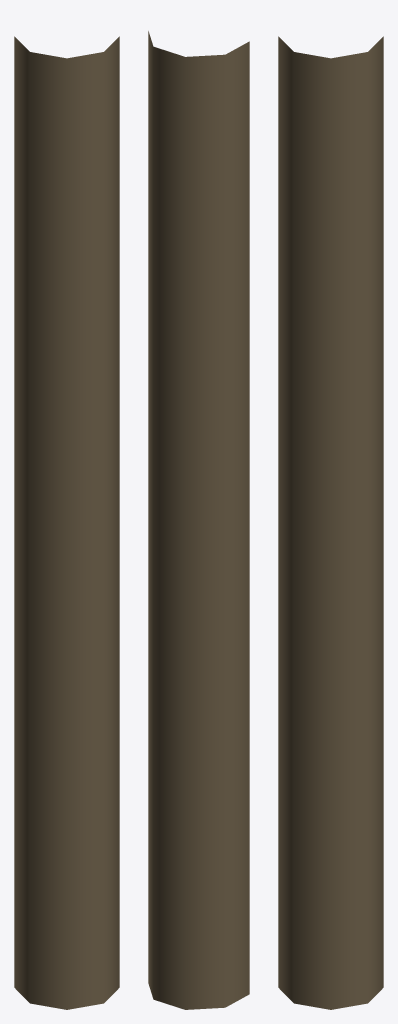
File: SM_cable.glb
The picture shows the model from 3 angles, left to right: view 1: azimuth 90°, elevation 25°; view 2: azimuth 210°, elevation 25°; view 3: azimuth 270°, elevation 25°; orthographic projection.
Visible parts, largest first — view 1: SM_cable; view 2: SM_cable; view 3: SM_cable.
Boxes of the visible parts, box(x1,y1,x2,y2) form: SM_cable: box(14, 36, 119, 1009); SM_cable: box(148, 31, 249, 1009); SM_cable: box(278, 36, 383, 1009).
Bounding box in the file's own units: 0.1 × 1 × 0.1.
